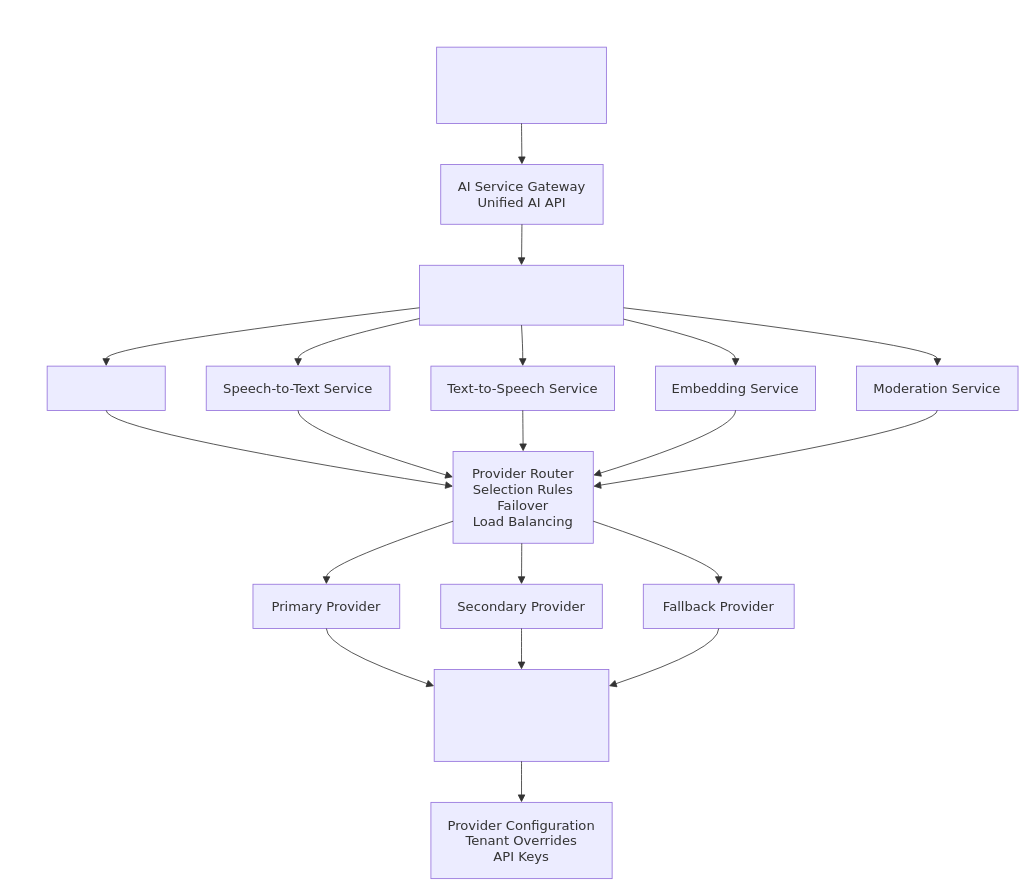
The diagram is 1032 pixels wide and 893 high, and some of its shapes have lost their labels. The shapes that lost their labels are listed below. From the top down, each one's centre as x and y in pixels, then its label:
At (x=521, y=84): "Voice Agent Runtime LangGraph LiveKit".
At (x=521, y=294): "Provider Abstraction Layer Common Interfaces".
At (x=105, y=387): "LLM Service".
At (x=521, y=715): "Usage & Cost Monitor Latency Tokens Errors".
